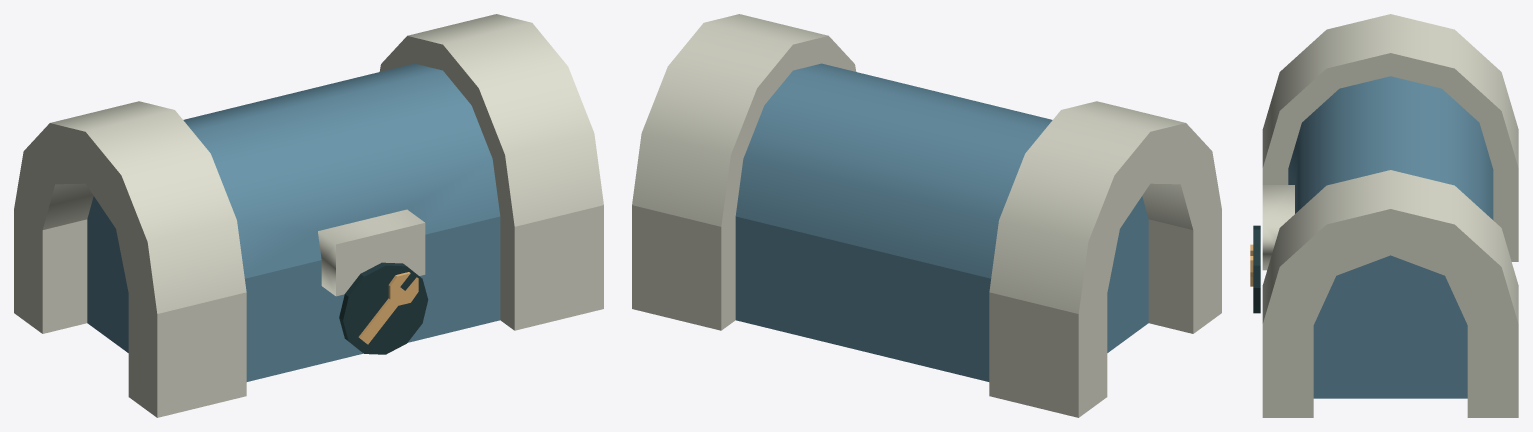
Rendered from workshop.glb.
The picture shows the model from 3 angles, left to right: view 1: azimuth 30°, elevation 25°; view 2: azimuth 150°, elevation 25°; view 3: azimuth 270°, elevation 25°; orthographic projection. The views are drawn at different scales.
Parts seen in each view (by area): view 1: lid, chest, category badge, emblem; view 2: lid, chest; view 3: lid, chest, category badge.
Boxes of the visible parts, x1,y1,x2,y2 form: lid: (14, 14, 603, 313); chest: (14, 205, 603, 417); category badge: (339, 262, 428, 354); emblem: (358, 272, 418, 344); lid: (632, 14, 1221, 313); chest: (632, 205, 1221, 417); lid: (1262, 14, 1518, 324); chest: (1262, 169, 1518, 417); category badge: (1253, 225, 1260, 313).
Size of the model in its own units: 2.29 by 1.15 by 1.34.
